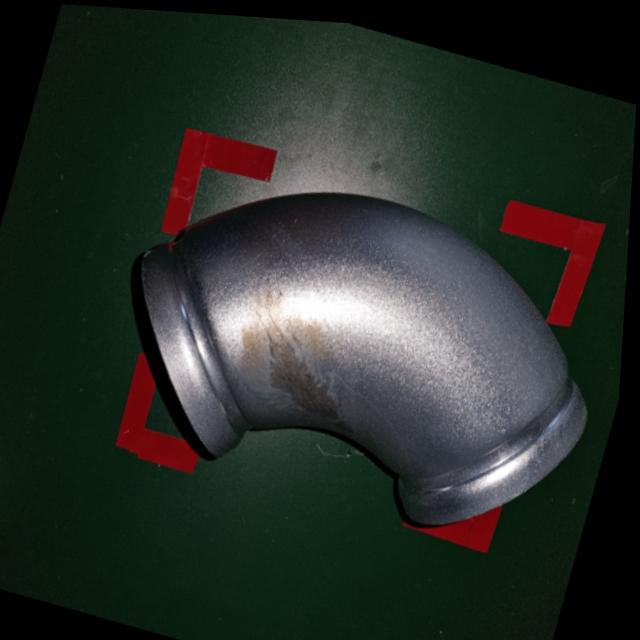Burn: (221, 279, 372, 429)
Defect: (86, 126, 634, 567)
